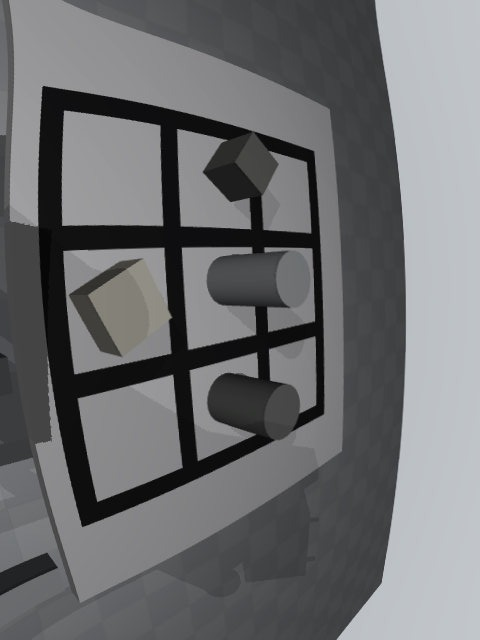can: (207, 250, 310, 308)
cube: (203, 131, 279, 202)
cylinder: (207, 373, 300, 440)
foam: (69, 258, 172, 357)
